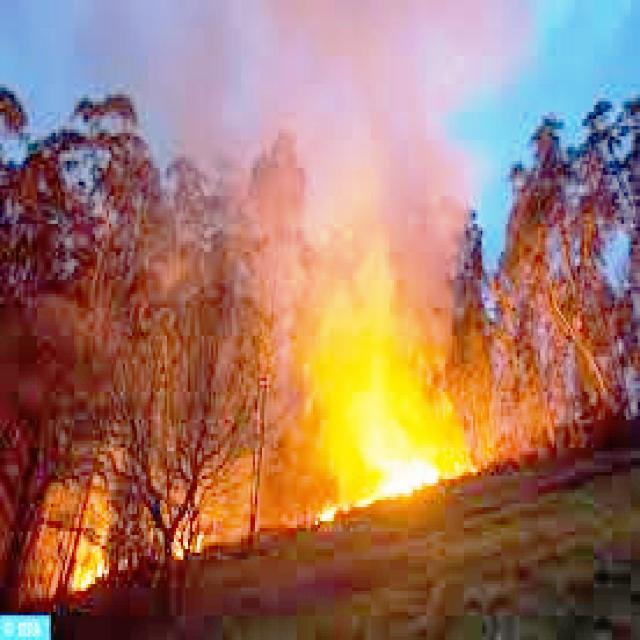api: (362, 462, 444, 503), (312, 497, 341, 528)
asap: (271, 1, 514, 410)
